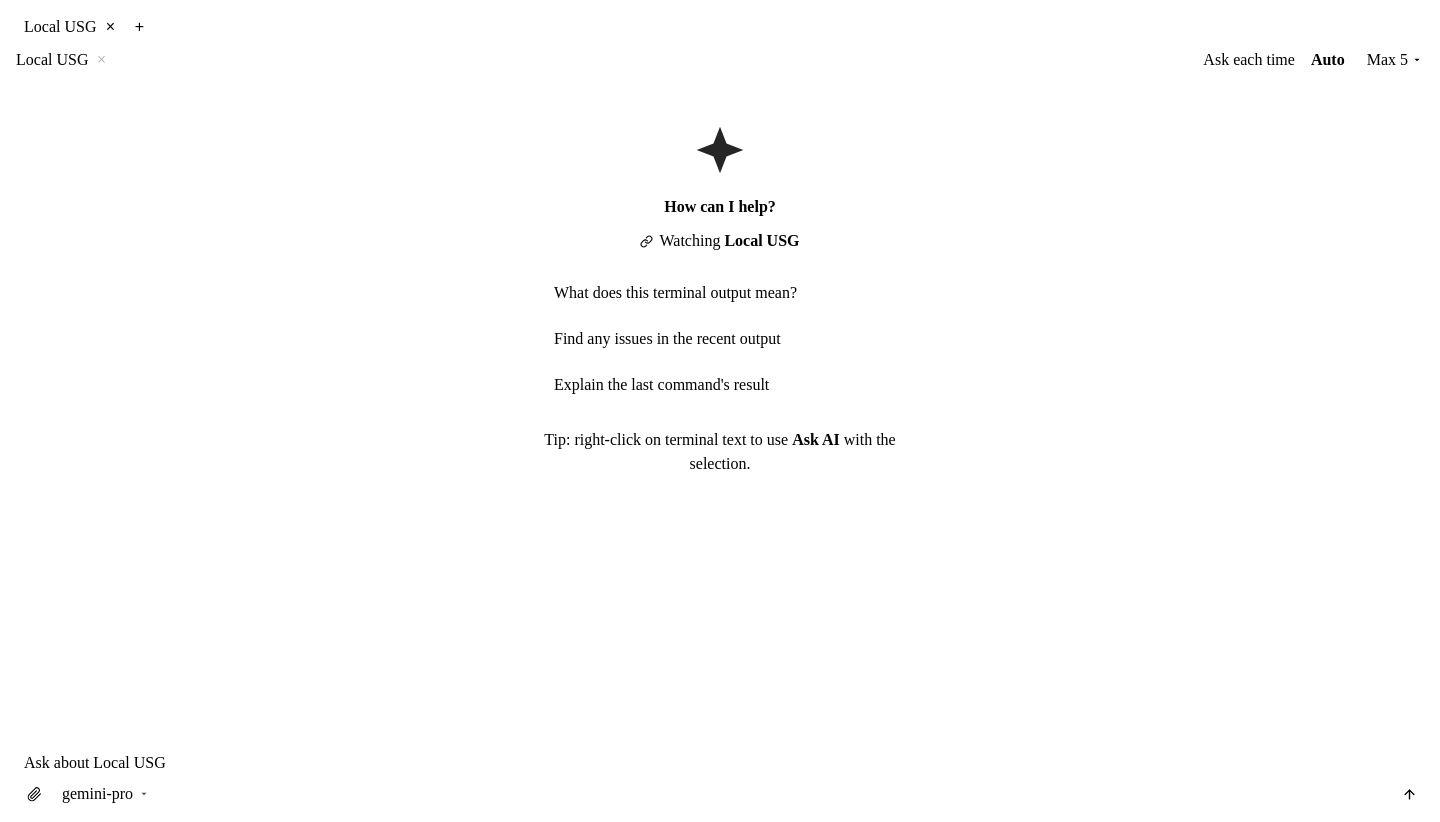
Test case: AIChatPane AI classifier gray-zone verdicts › auto-executes a gray-zone command when the AI judges it read-only
The image size is (1440, 822).
In the text box with placeholder "Ask about Local USG": (721, 762) [20,748,1422,776], type "do the thing"
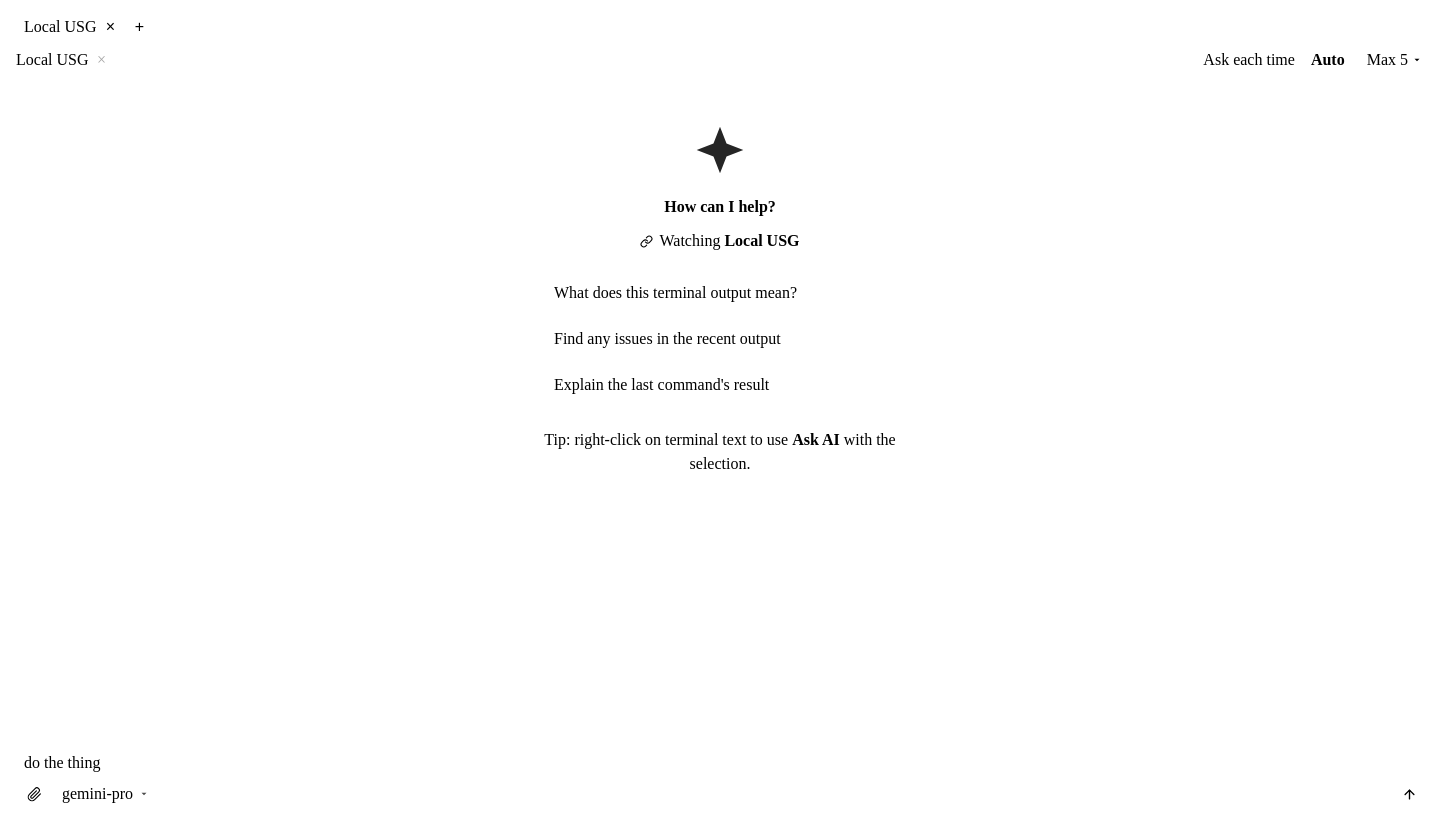
Press Enter in the text box with placeholder "Ask about Local USG", box [20,748,1422,776]
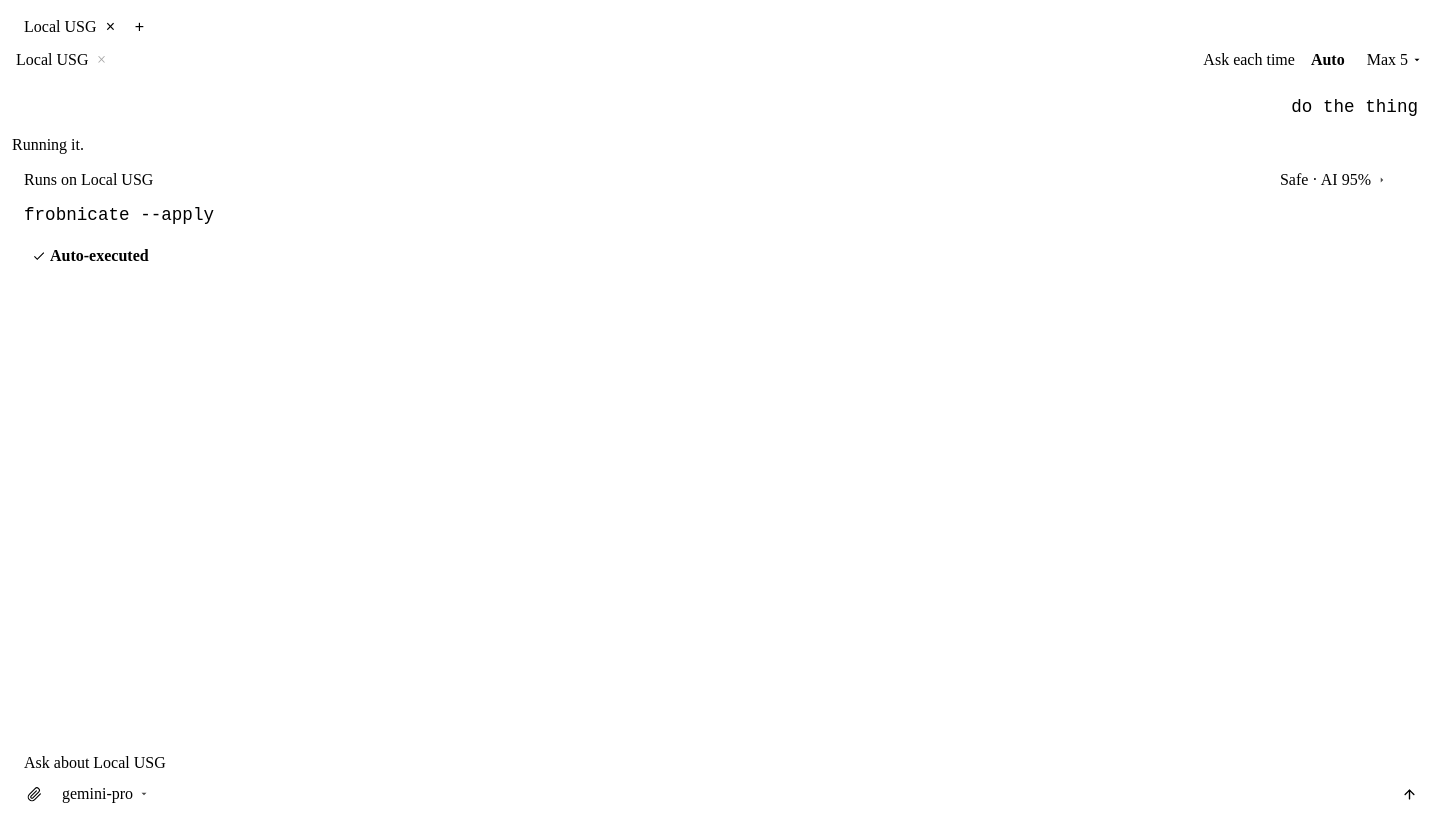
Check: the text "Safe · AI 95%" is shown, box [1280,171,1371,189]
